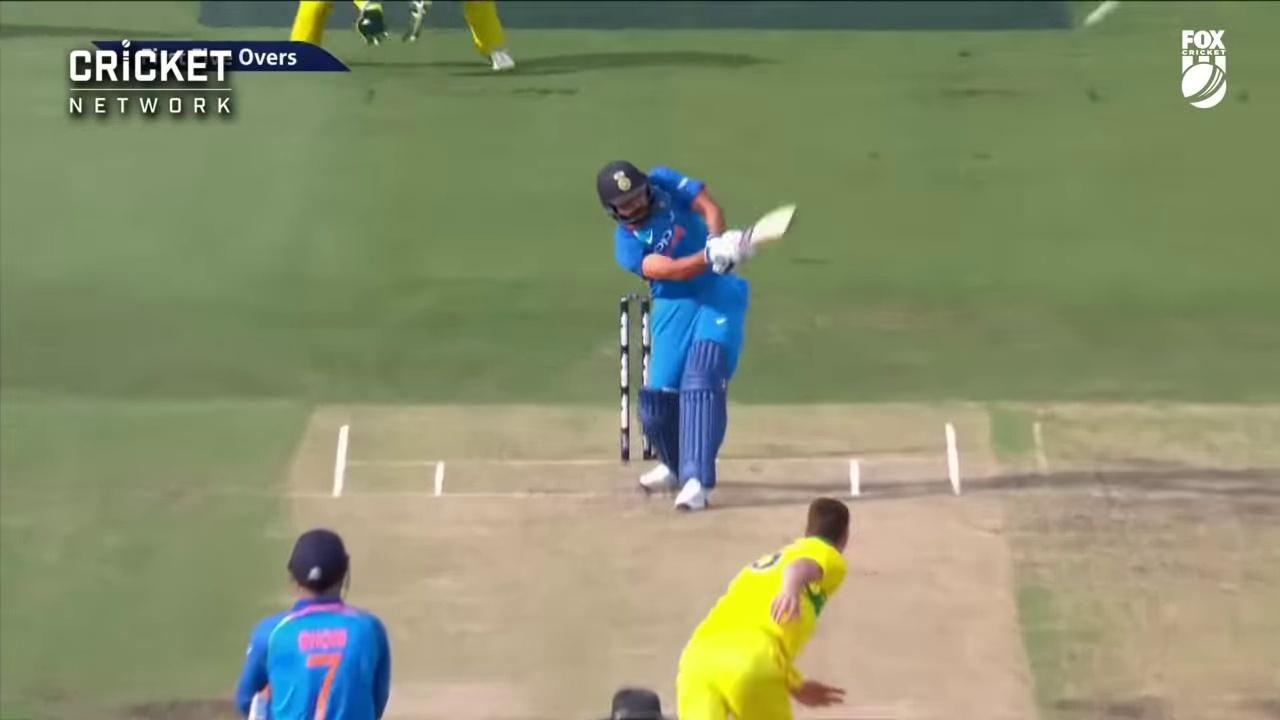batsman: (592, 161, 797, 511)
